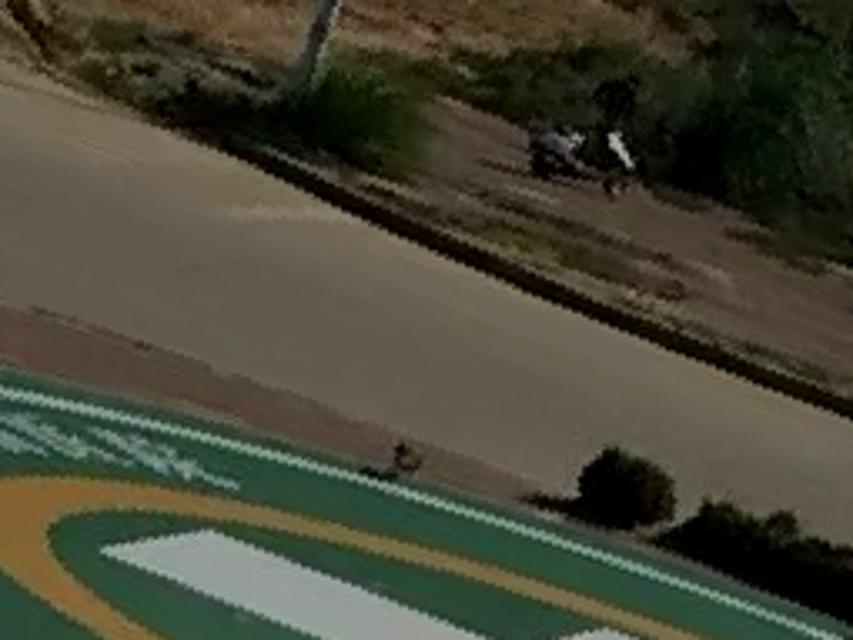Apron: (2, 459, 728, 637)
